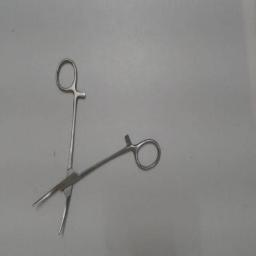Crile Artery Forceps: (28, 54, 166, 240)
